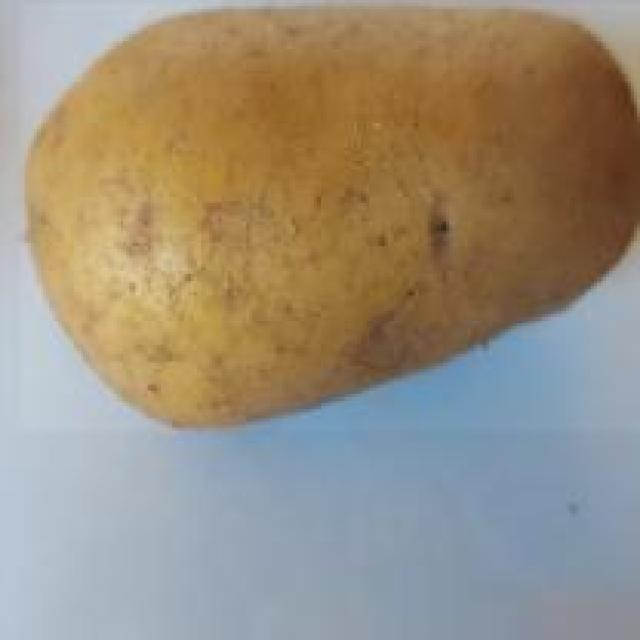potato: (21, 3, 640, 434)
